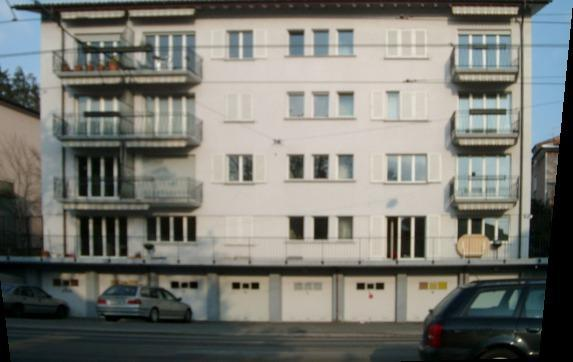window: (457, 154, 514, 198), (77, 215, 130, 260), (460, 90, 512, 134), (75, 94, 128, 137), (142, 32, 198, 71), (146, 94, 197, 136), (74, 157, 126, 198), (460, 32, 514, 69), (75, 33, 123, 71), (387, 218, 429, 261), (147, 216, 199, 245), (386, 154, 431, 184), (383, 91, 427, 121), (384, 30, 428, 60), (457, 217, 512, 237), (225, 93, 254, 122), (226, 155, 254, 184), (227, 31, 255, 60), (226, 217, 254, 246), (313, 29, 330, 57), (288, 92, 305, 120), (288, 154, 305, 182), (288, 30, 305, 57), (337, 29, 354, 56), (313, 92, 330, 119), (338, 91, 355, 118), (313, 155, 330, 182), (338, 155, 355, 182), (289, 216, 306, 242), (313, 216, 330, 242), (337, 216, 354, 242)
